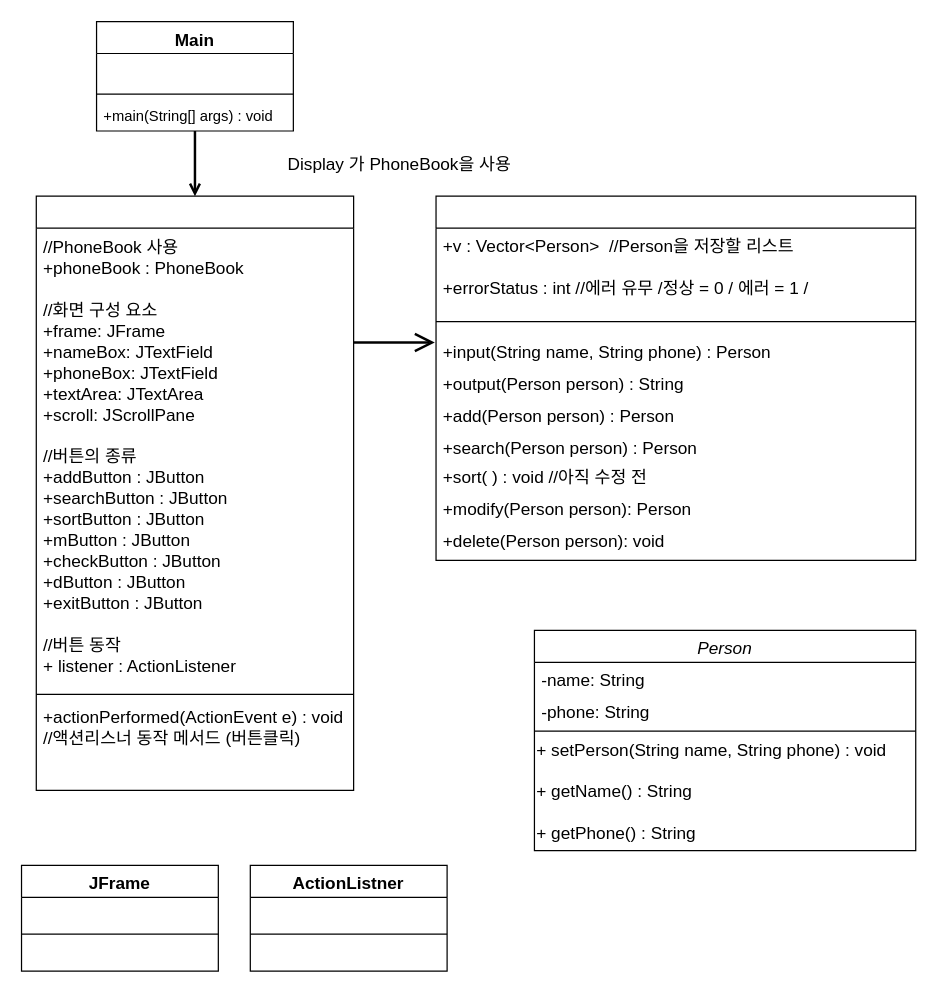
This 937x996 diagram has some shape labels left out. Here are the shapes that lost their labels. From the top down, the box of each, then its label:
(435, 195, 916, 560): PhoneBook
(35, 195, 354, 790): Display
